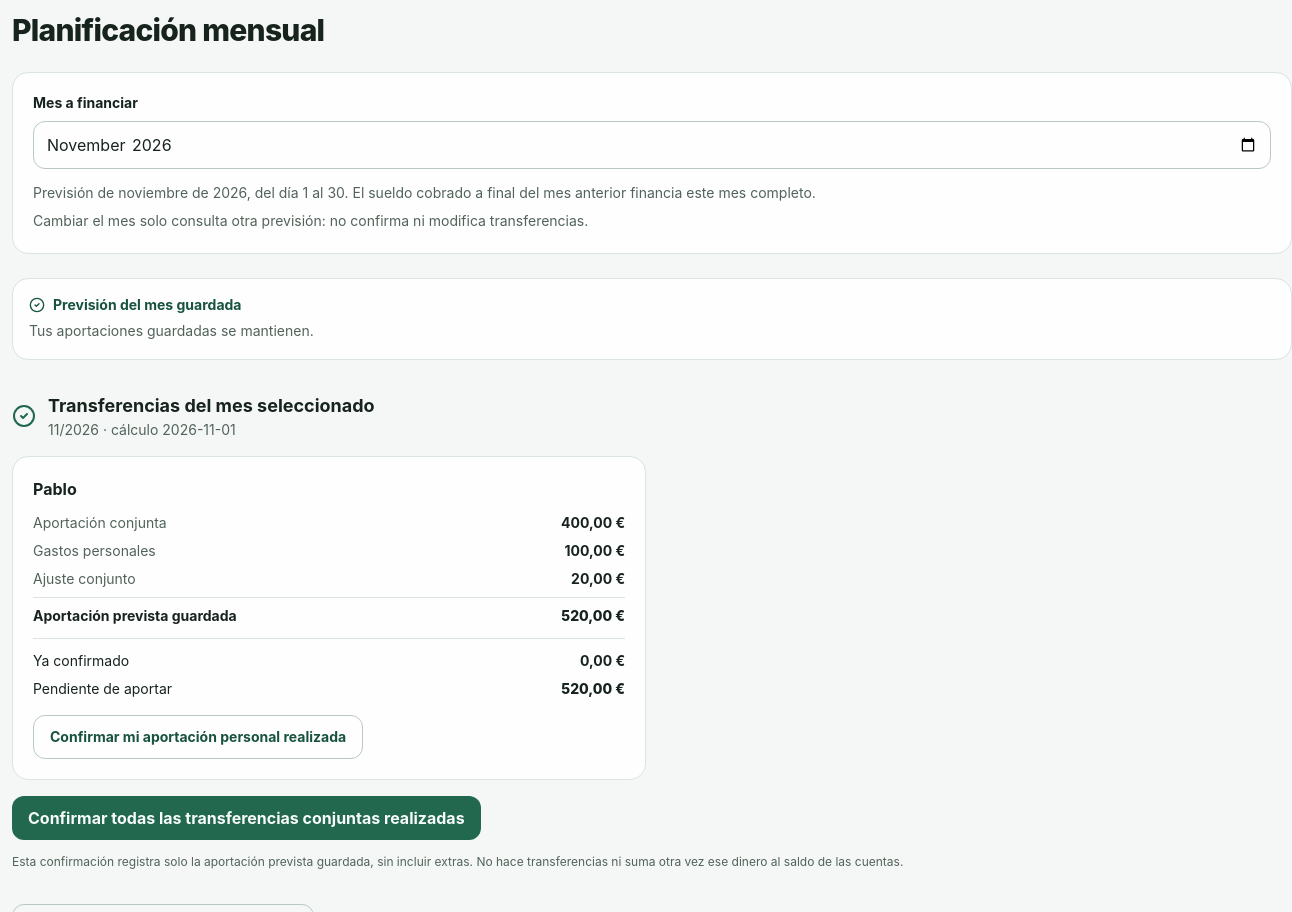
it: PlanningPage salary month forecast › reports funding failures without pretending success
This screenshot has width=1292, height=912.
What coordinates should you click on to do the following:
click the button "Confirmar mi aportación personal realizada"
I would click on:
 (198, 737)
Its box is [33,715,363,759].
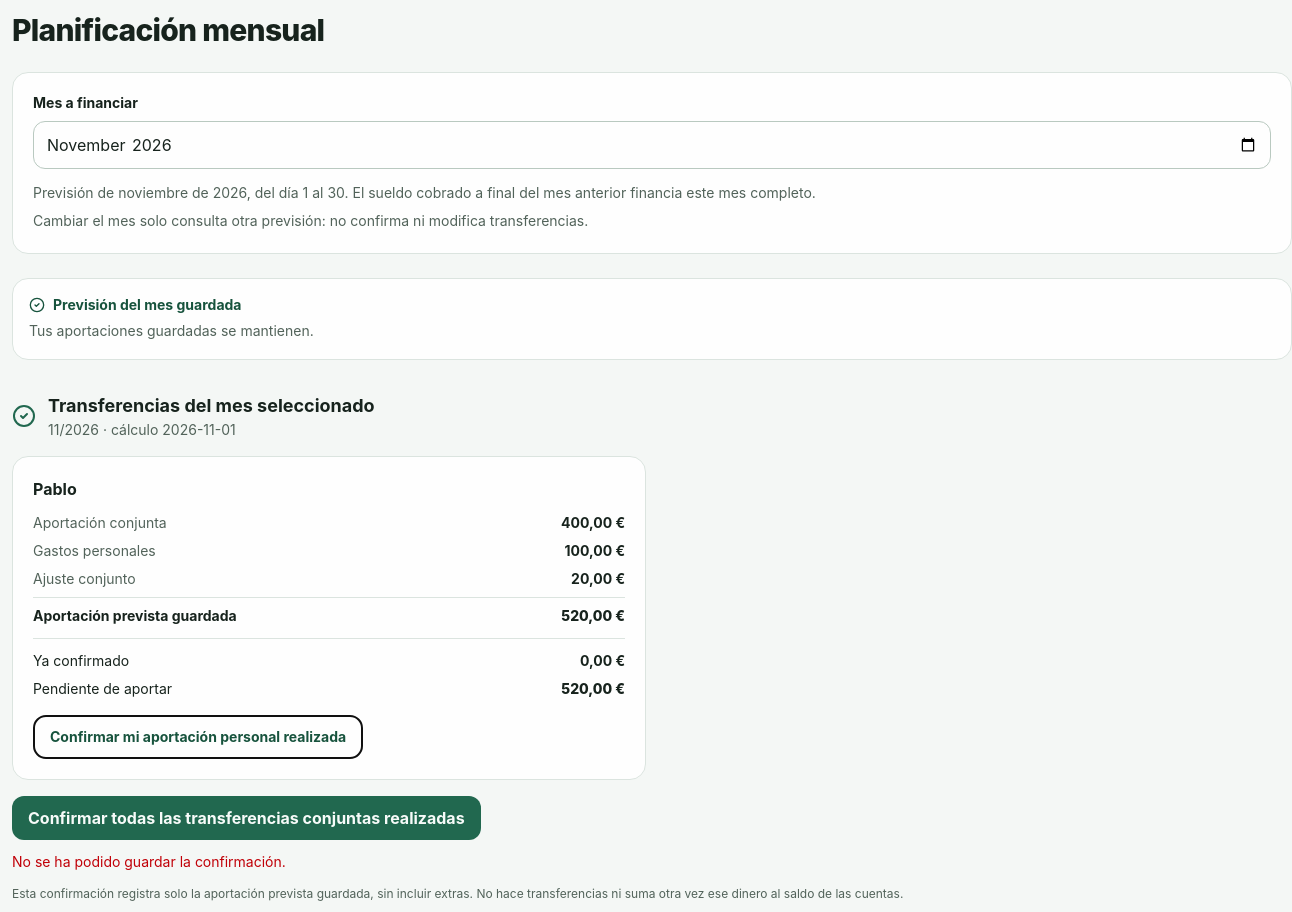
Expected: the message "No se ha podido guardar la confirmación." is shown, [12,853,286,870]
